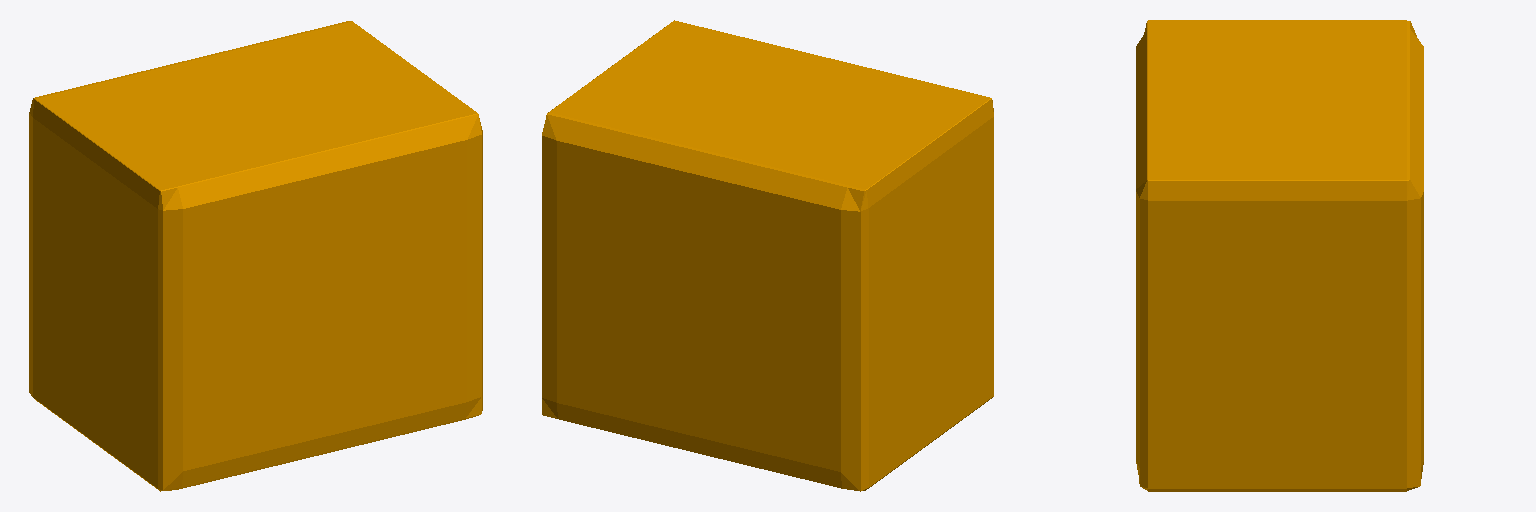
The robot description file, URDF, robot "cylinder_box_67":
<?xml version="1.0" encoding="utf-8"?>  <robot name="cylinder_box_67">   <link name="cylinder_box_67">     <visual>       <geometry>         <mesh filename="../meshes/box/box_67.stl" scale="1 1 1"/>       </geometry>     </visual>     <collision>       <geometry>         <mesh filename="../meshes/box/box_67.stl" scale="1 1 1"/>       </geometry>     </collision>     <inertial>        <origin         xyz="0 0 0"         rpy="0 0 0" />       <mass value="0.607110678680615"/>       <origin rpy="0 0 0" xyz="0 0 0"/>       <inertia ixx="0.0006406020788980799" ixy="5.4708778178071617e-08" ixz="3.5280329250284864e-07" iyy="0.000850588648321717" iyz="1.474747065936341e-07" izz="0.0007372132433141828"/>     </inertial>   </link>  </robot>

--- What the picture shows (computed from the rendered views, not written in the file) ---
3 views of the same robot in one strip: view 1: azimuth 30°, elevation 25°; view 2: azimuth 150°, elevation 25°; view 3: azimuth 270°, elevation 25° (orthographic).
Model cylinder_box_67 with 1 links and 0 joints (none), rooted at cylinder_box_67, posed all joints at 0.
Visible links, largest first — view 1: cylinder_box_67; view 2: cylinder_box_67; view 3: cylinder_box_67.
Boxes of the visible links, x1=… form: cylinder_box_67: x1=29, y1=21, x2=482, y2=491; cylinder_box_67: x1=542, y1=20, x2=993, y2=491; cylinder_box_67: x1=1136, y1=20, x2=1423, y2=491.
Size in the robot's own frame: 0.0971 by 0.0727 by 0.0867 metres.
Meshes: 1 distinct files referenced, 1 mesh visuals loaded (1 binary STL).